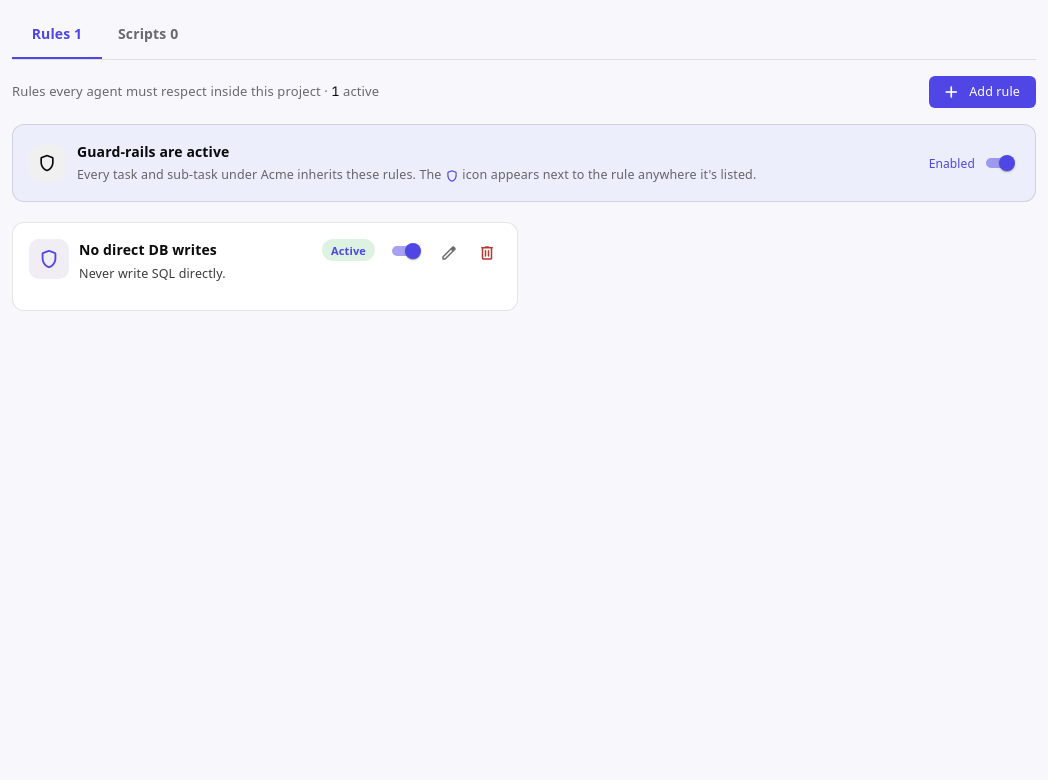
Test: ProjectGuardrailsBody — additional branches › toasts when pausing a rule fails
Click the switch named "Pause No direct DB writes".
click(413, 251)  # box [405, 243, 421, 259]
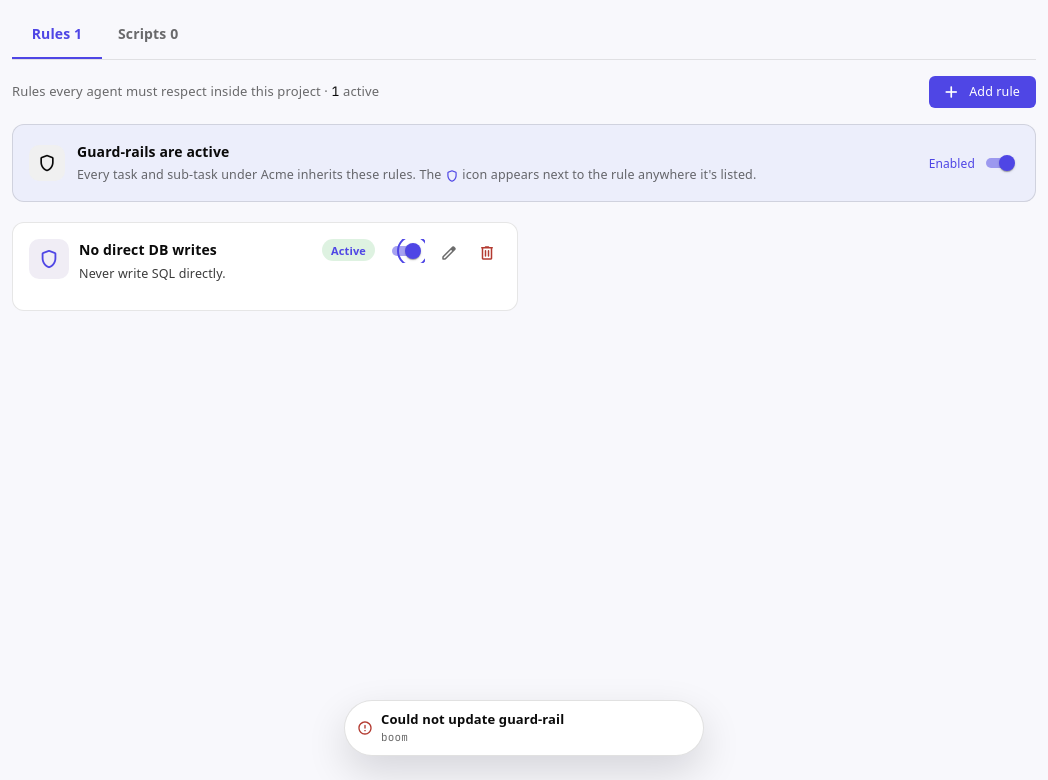
Expected: the text "Could not update guard-rail" is shown, [381, 710, 564, 728]
